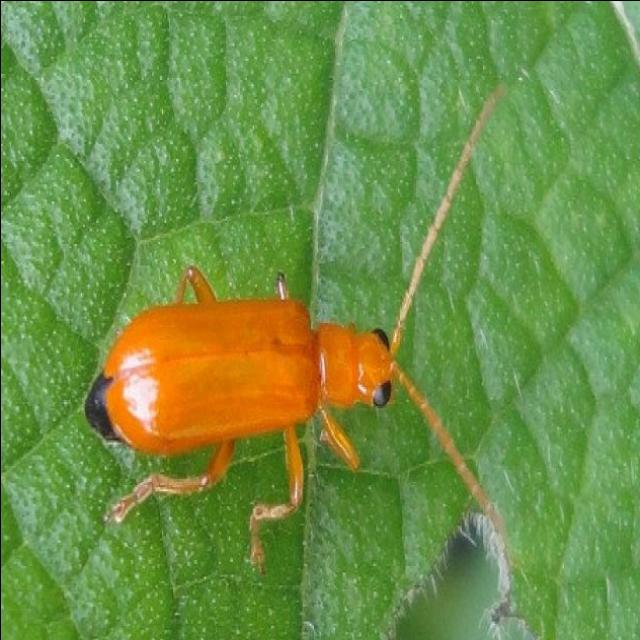Pumpkin Beetle: (72, 62, 519, 575)
